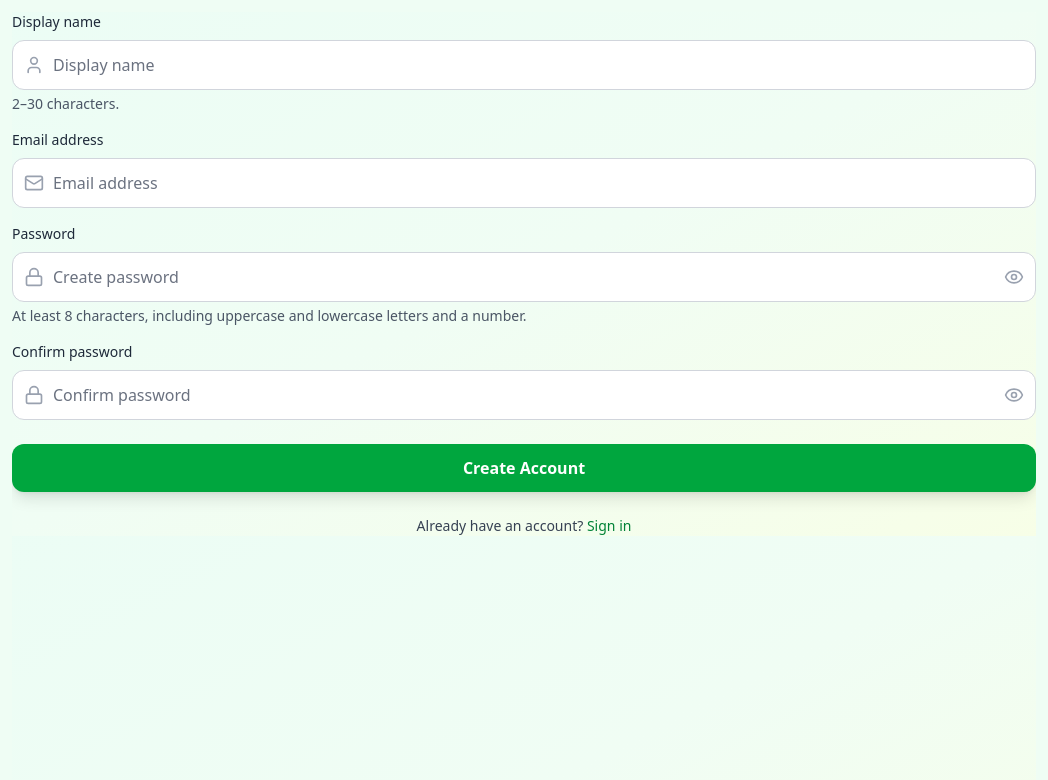
moves from account details to pending verification without navigating or retaining password inputs
This screenshot has width=1048, height=780.
Step 1. Type "Gardener" into the field labelled "Display name" → (524, 65), box 12,40 -> 1036,90
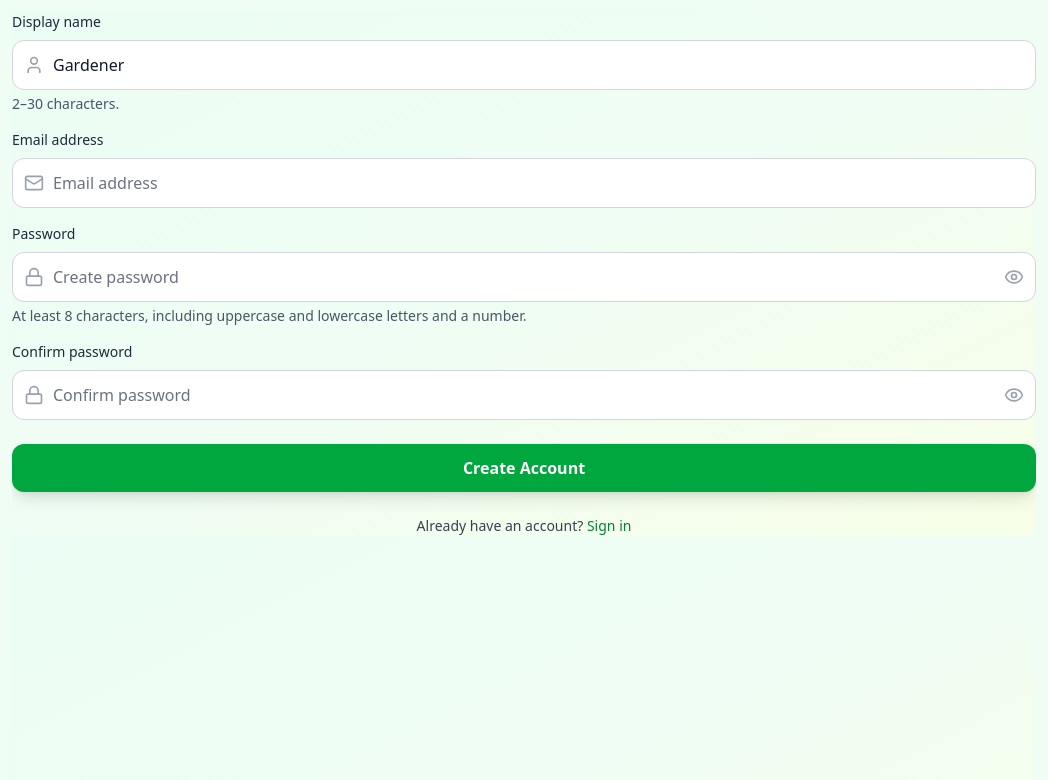
Step 2. Type "gardener@example.com" into the field labelled "Email address" → (524, 183), box 12,158 -> 1036,208
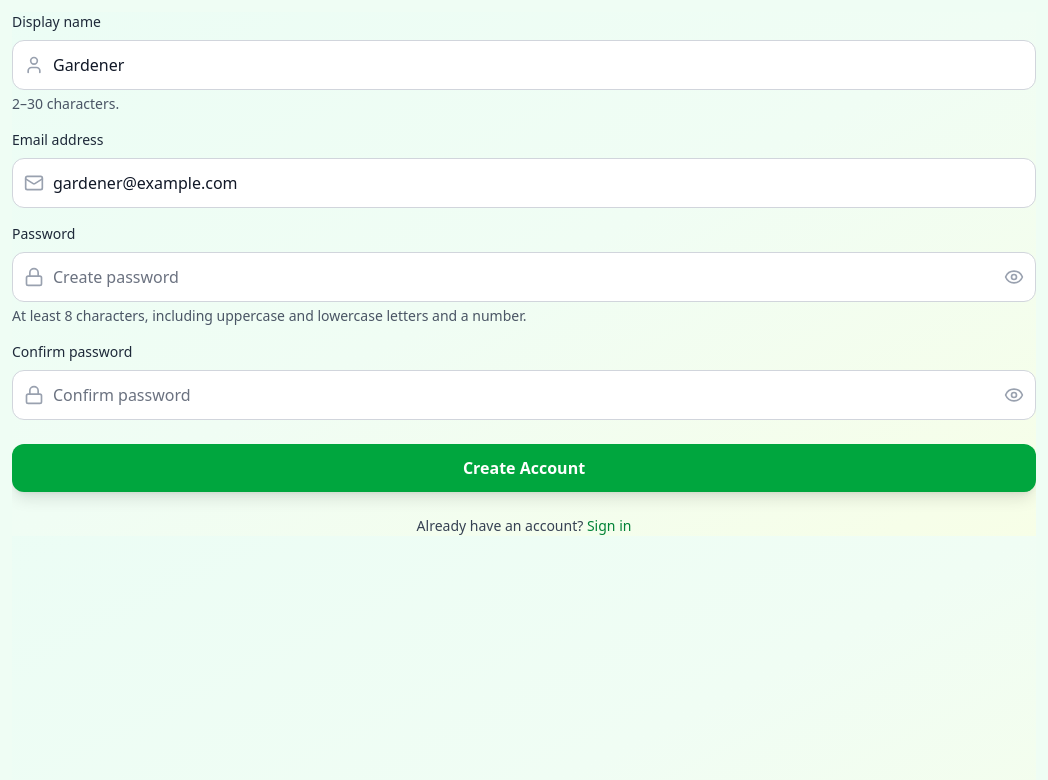
Step 3. Type "ValidPass123" into the password field labelled "Password" → (524, 277), box 12,252 -> 1036,302
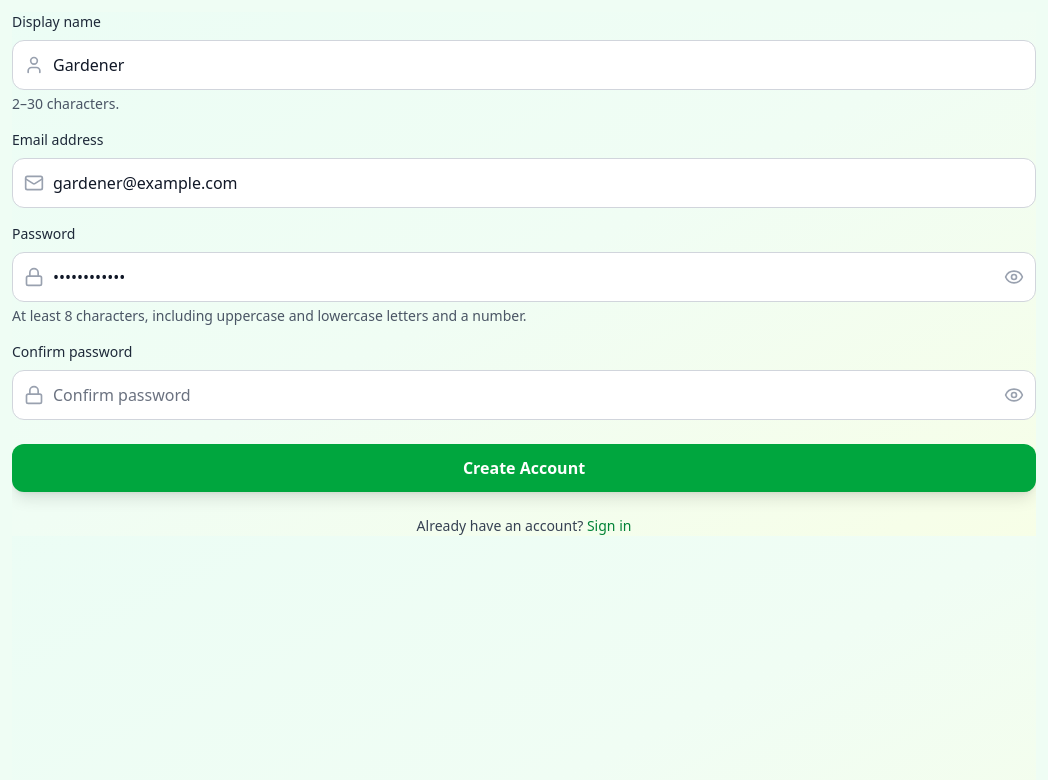
Step 4. Type "ValidPass123" into the password field labelled "Confirm password" → (524, 395), box 12,370 -> 1036,420
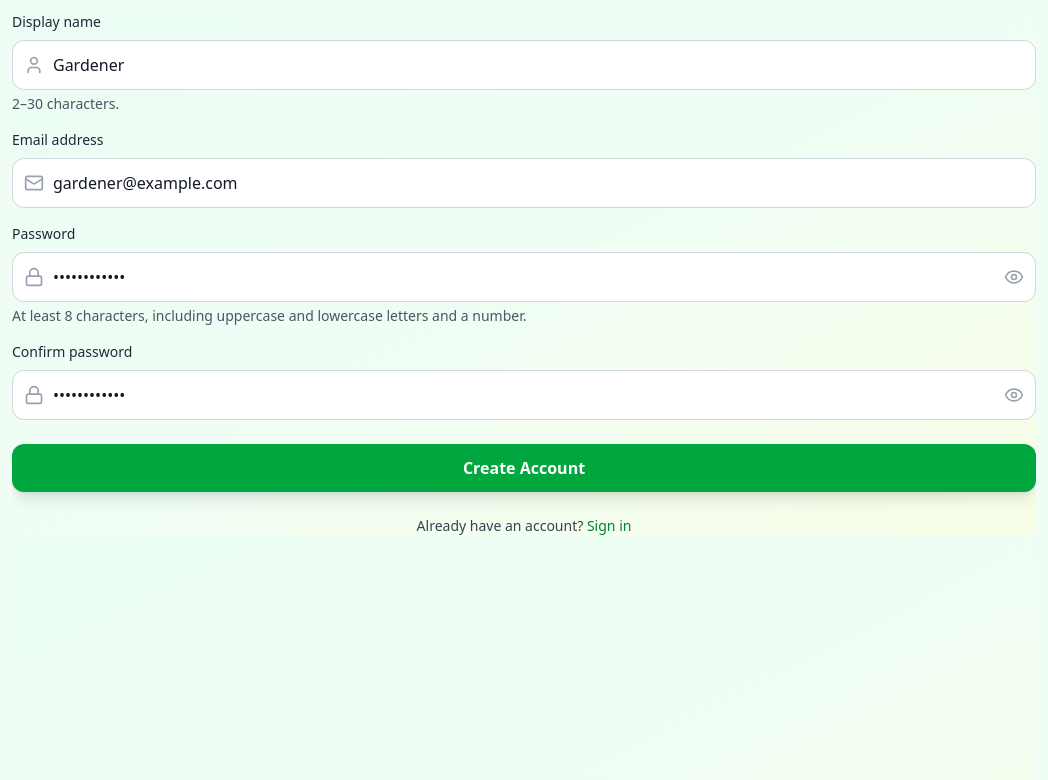
Step 5. Click the button "Create Account" → (524, 468), box 12,444 -> 1036,492
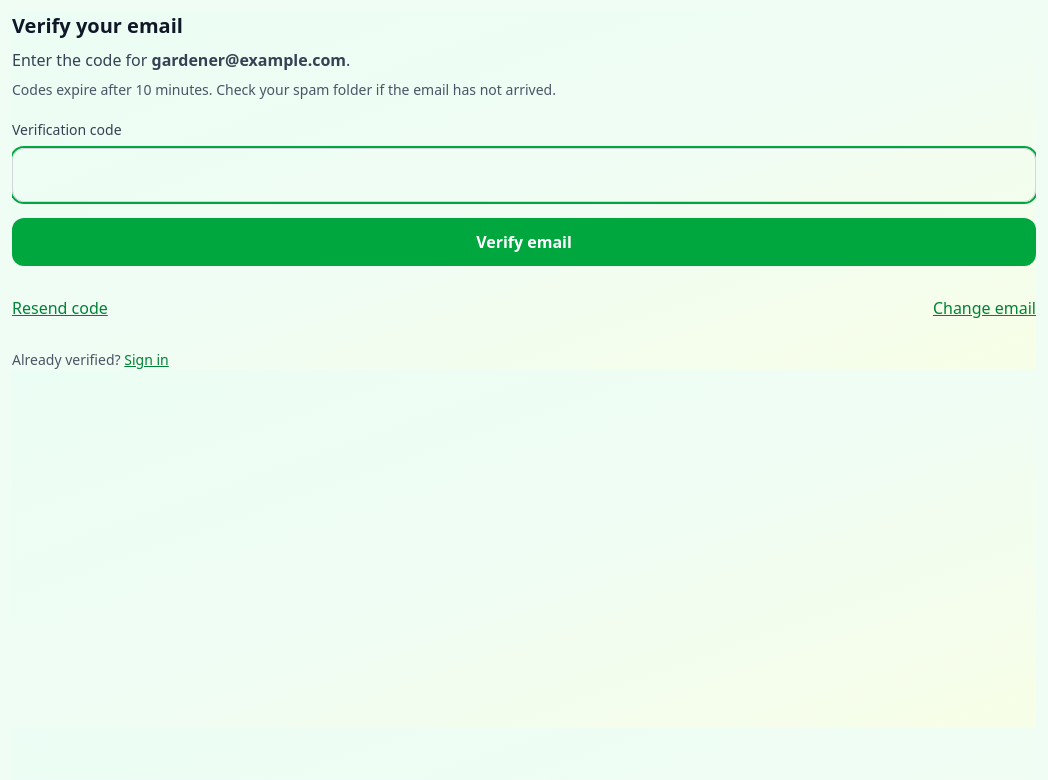
Expected: the heading "Verify your email" is shown, 12,12 -> 183,39
Expected: the label labelled "Password" is gone
